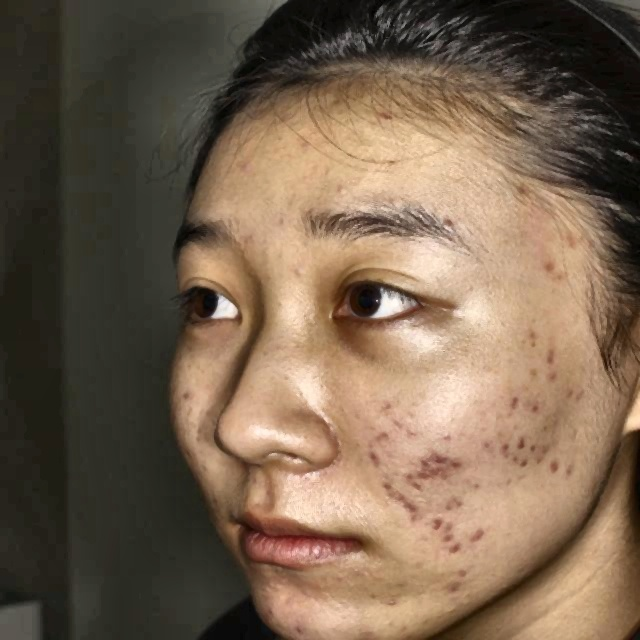pustule: (424, 445, 464, 484), (547, 454, 588, 485), (442, 568, 481, 596), (555, 226, 587, 258), (429, 529, 464, 557), (465, 516, 491, 553), (374, 476, 404, 502), (503, 431, 527, 463), (500, 393, 530, 418), (538, 257, 569, 279), (412, 456, 431, 488), (424, 513, 451, 529), (402, 499, 424, 518)
